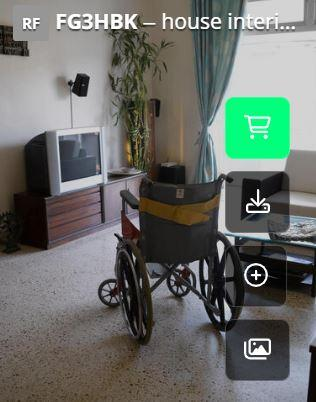TV: (25, 117, 111, 190)
chair: (101, 168, 247, 351)
console: (17, 161, 189, 245)
light: (64, 71, 100, 122)
sofa: (237, 141, 316, 232)
table: (224, 210, 316, 292)
